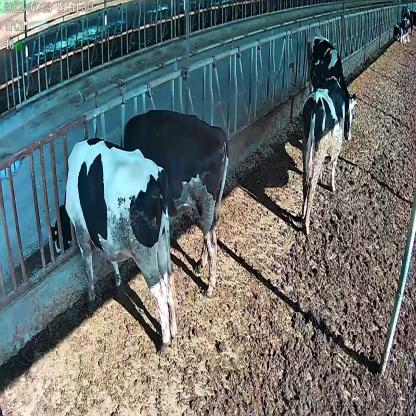cow: (50, 137, 178, 350), (119, 107, 228, 293), (300, 74, 346, 241), (305, 31, 357, 143)
